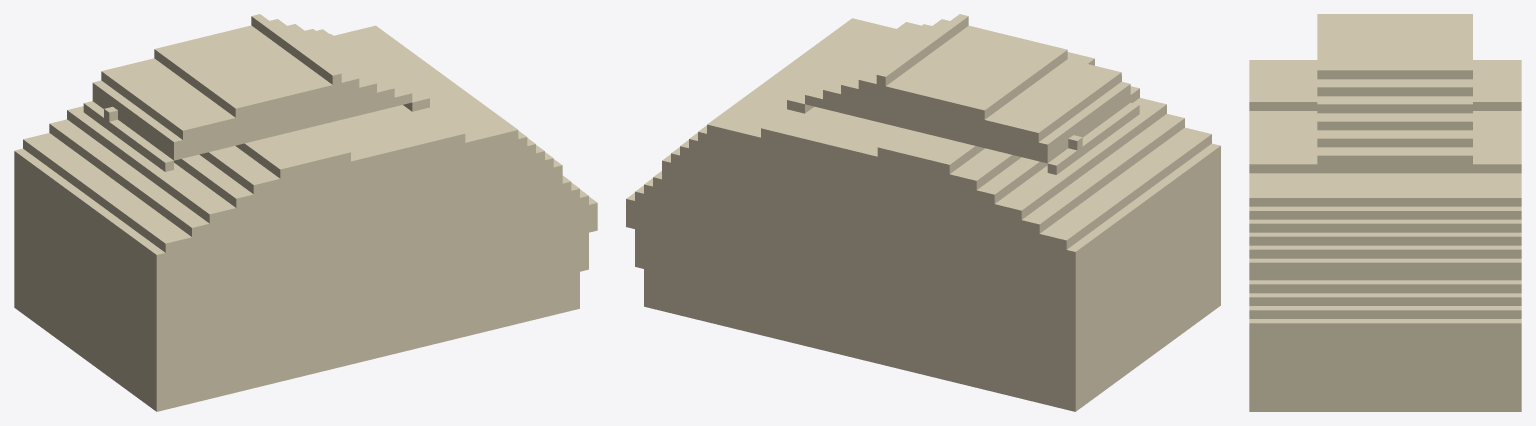
The model's file is wax_paraffin.glb.
3 views of the same model, side by side, from view 1: azimuth 30°, elevation 25°; view 2: azimuth 150°, elevation 25°; view 3: azimuth 270°, elevation 25° (orthographic). The views are drawn at different scales.
Parts seen in each view (by area): view 1: wax_paraffin:compound; view 2: wax_paraffin:compound; view 3: wax_paraffin:compound.
Boxes of the visible parts, x1,y1,x2,y2 form: wax_paraffin:compound: (14, 14, 597, 411); wax_paraffin:compound: (626, 14, 1220, 411); wax_paraffin:compound: (1249, 14, 1521, 411).
Bounding box in the file's own units: 0.1 × 0.056 × 0.056.
